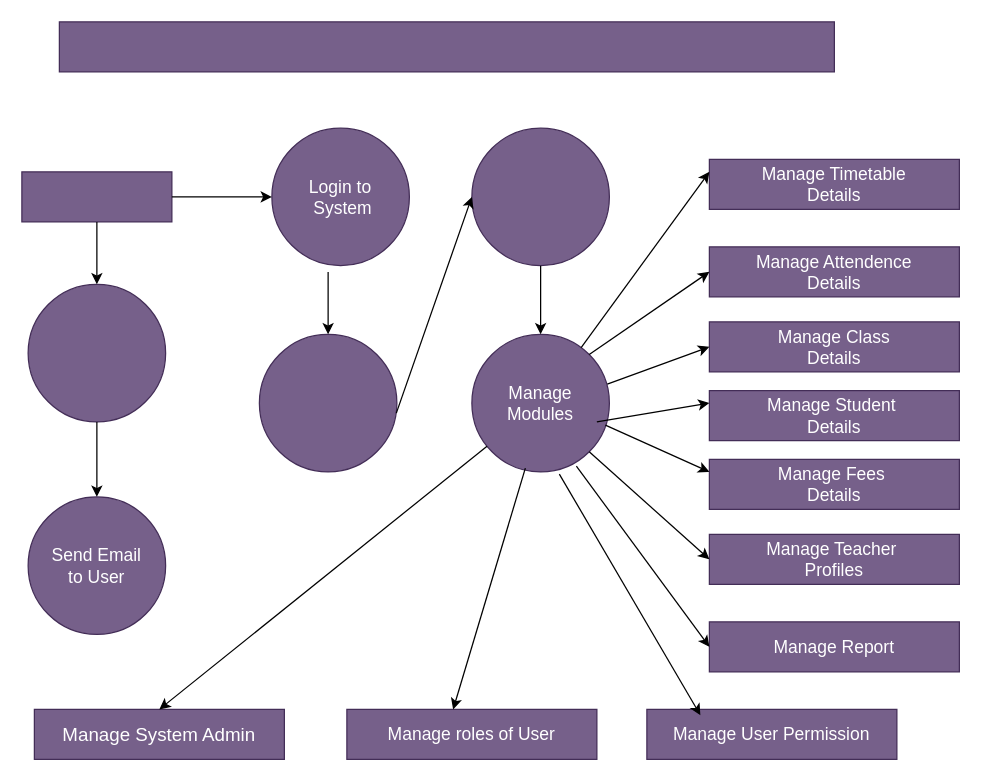
The diagram is 981 pixels wide and 781 high, and some of its shapes have lost their labels. The centre of each missing label's shape, as x and y in pixels:
"Admin" belongs at point (96, 196).
"Check Credential" belongs at point (327, 402).
"Check Roles of Access" belongs at point (540, 196).
"Forgot password" belongs at point (96, 352).
"STUDENT INFORMATION SYSTEM" belongs at point (446, 46).
